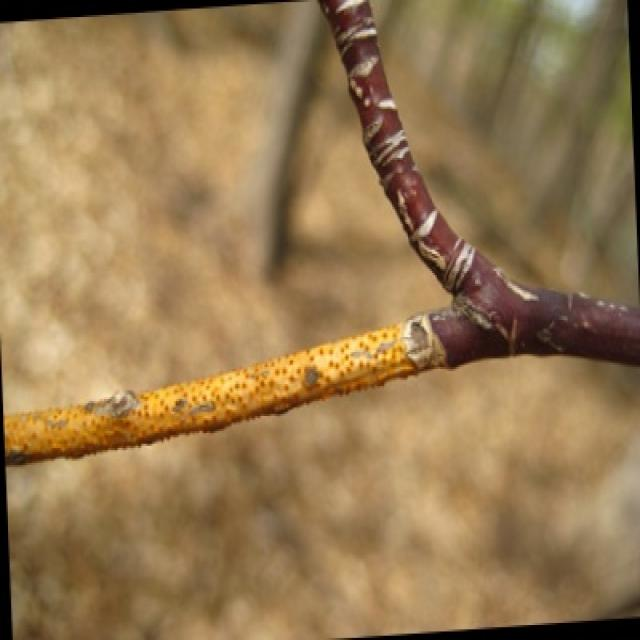Golden_canker: (4, 314, 422, 467)
